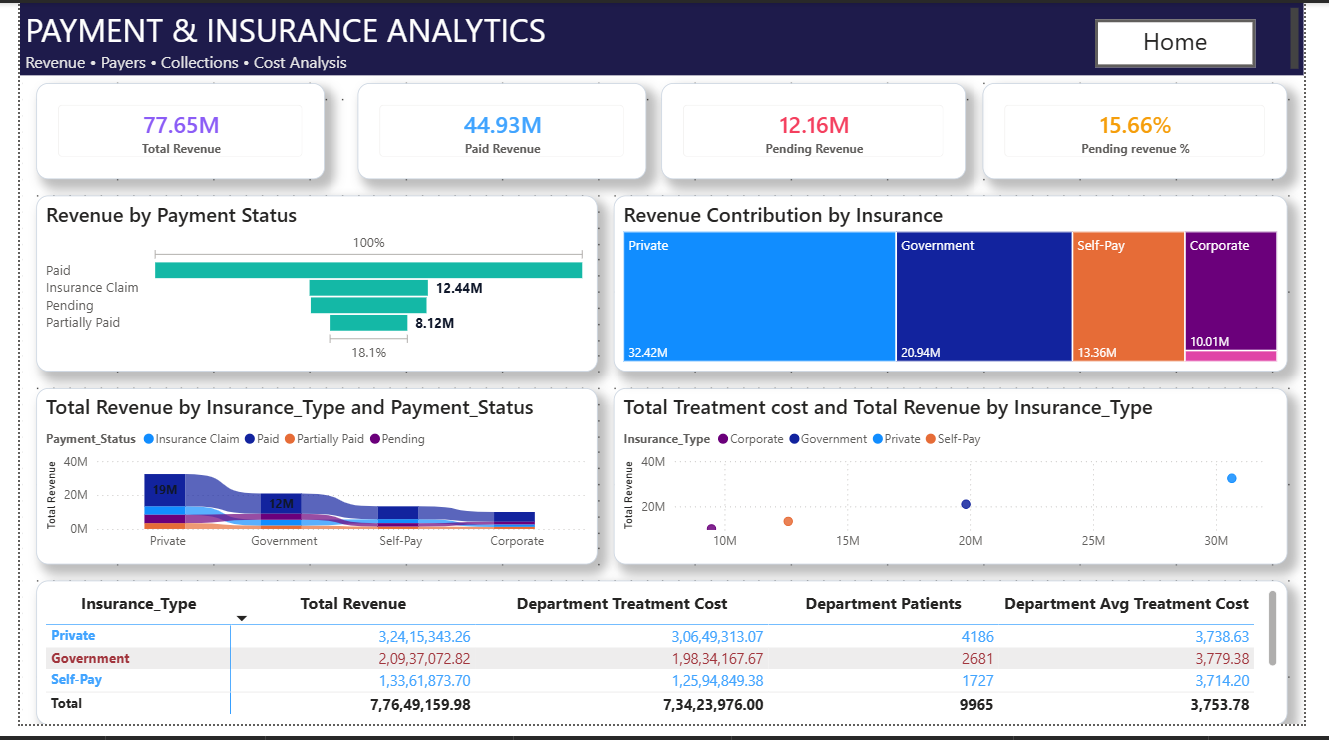

This screenshot's page, from the dashboard's own definition file:
{"tool":"powerbi","page":{"name":"Payment & Insurance","canvas":[1280,720],"ordinal":5},"visuals":[{"type":"shape","box":[0,0,1280,72],"z":0},{"type":"textbox","box":[0,0,1280,72],"z":1000},{"type":"cardVisual","fields":{"Data":["healthcare_ai_etl healthcare_clean.Total Revenue"]},"box":[16,80,288,96],"z":2000},{"type":"cardVisual","fields":{"Data":["healthcare_ai_etl etl_quality_log.Paid Revenue"]},"box":[336,80,288,96],"z":3000},{"type":"cardVisual","fields":{"Data":["healthcare_ai_etl etl_quality_log.Pending revenue %"]},"box":[960,80,304,96],"z":4000},{"type":"cardVisual","fields":{"Data":["healthcare_ai_etl etl_quality_log.Pending Revenue"]},"box":[640,80,304,96],"z":5000},{"type":"funnel","title":"Revenue by Payment Status","fields":{"Category":["healthcare_ai_etl healthcare_clean.Payment_Status"],"Y":["healthcare_ai_etl healthcare_clean.Total Revenue"]},"box":[16,192,560,176],"z":6000},{"type":"ribbonChart","fields":{"Category":["healthcare_ai_etl healthcare_clean.Insurance_Type"],"Y":["healthcare_ai_etl healthcare_clean.Total Revenue"],"Series":["healthcare_ai_etl healthcare_clean.Payment_Status"]},"box":[16,384,560,176],"z":7000},{"type":"scatterChart","fields":{"X":["healthcare_ai_etl healthcare_clean.Total Treatment cost"],"Y":["healthcare_ai_etl healthcare_clean.Total Revenue"],"Series":["healthcare_ai_etl healthcare_clean.Insurance_Type"]},"box":[592,384,672,176],"z":8000},{"type":"treemap","title":"Revenue Contribution by Insurance","fields":{"Group":["healthcare_ai_etl healthcare_clean.Insurance_Type"],"Values":["healthcare_ai_etl healthcare_clean.Total Revenue"]},"box":[592,192,672,176],"z":9000},{"type":"pivotTable","fields":{"Rows":["healthcare_ai_etl healthcare_clean.Insurance_Type"],"Values":["healthcare_ai_etl healthcare_clean.Total Revenue","healthcare_ai_etl etl_quality_log.Department Treatment Cost","healthcare_ai_etl etl_quality_log.Department Patients","healthcare_ai_etl etl_quality_log.Department Avg Treatment Cost"]},"box":[16,576,1248,144],"z":10000},{"type":"textbox","box":[1072,16,160,48],"z":10001},{"type":"actionButton","box":[1072,16,160,48],"z":10002}]}

Visuals, with their boxes in screenshot pixels (x1, y1, x2, y2), scaled from the page's 1280x720 canvas onto the 1329x740 screenshot:
shape: bbox=(0, 0, 1328, 74)
textbox: bbox=(0, 0, 1328, 74)
cardVisual - healthcare_ai_etl healthcare_clean.Total Revenue: bbox=(17, 82, 316, 181)
cardVisual - healthcare_ai_etl etl_quality_log.Paid Revenue: bbox=(349, 82, 648, 181)
cardVisual - healthcare_ai_etl etl_quality_log.Pending revenue %: bbox=(997, 82, 1312, 181)
cardVisual - healthcare_ai_etl etl_quality_log.Pending Revenue: bbox=(664, 82, 980, 181)
"Revenue by Payment Status" funnel: bbox=(17, 197, 598, 378)
ribbonChart - healthcare_ai_etl healthcare_clean.Insurance_Type x healthcare_ai_etl healthcare_clean.Total Revenue: bbox=(17, 395, 598, 576)
scatterChart - healthcare_ai_etl healthcare_clean.Total Treatment cost x healthcare_ai_etl healthcare_clean.Total Revenue: bbox=(615, 395, 1312, 576)
"Revenue Contribution by Insurance" treemap: bbox=(615, 197, 1312, 378)
pivotTable - healthcare_ai_etl healthcare_clean.Insurance_Type x healthcare_ai_etl healthcare_clean.Total Revenue: bbox=(17, 592, 1312, 739)
textbox: bbox=(1113, 16, 1279, 66)
actionButton: bbox=(1113, 16, 1279, 66)
